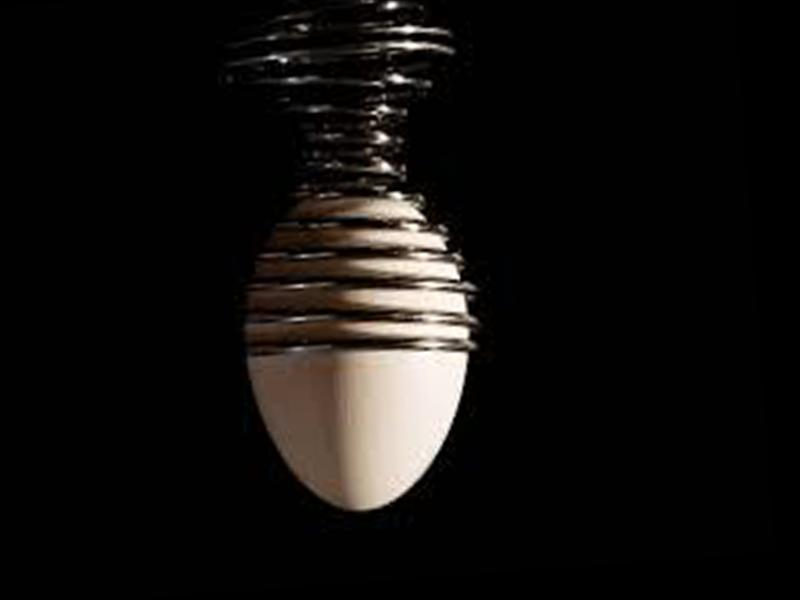Eggs: (236, 186, 482, 520)
